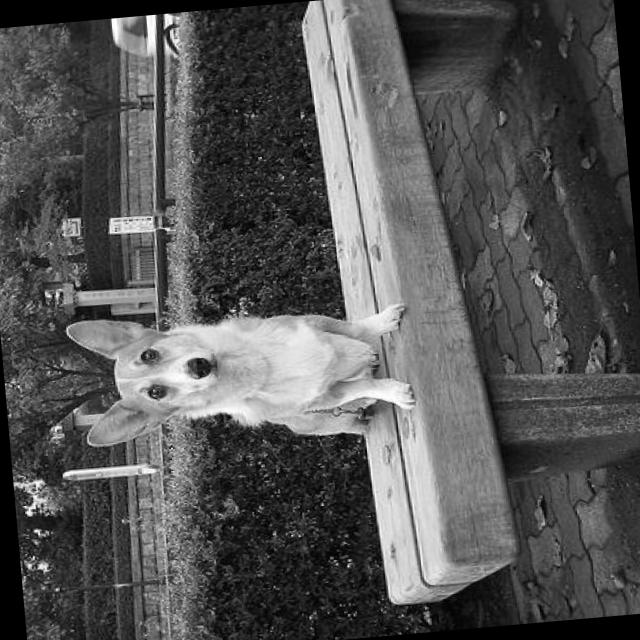sitting: (62, 280, 426, 466)
